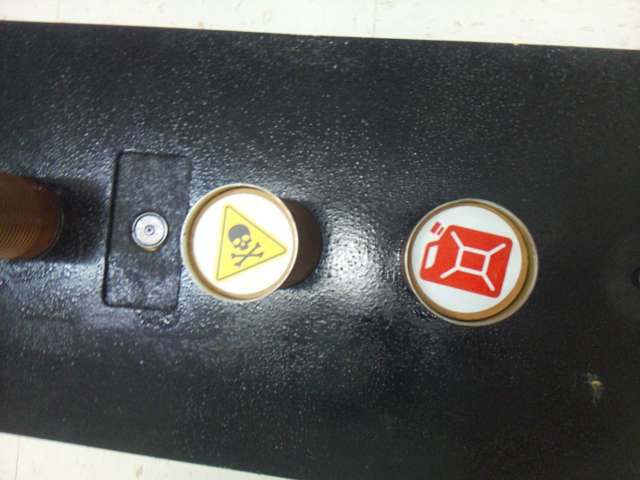gasoline: (411, 205, 524, 314)
toxic_fluid: (193, 193, 295, 293)
